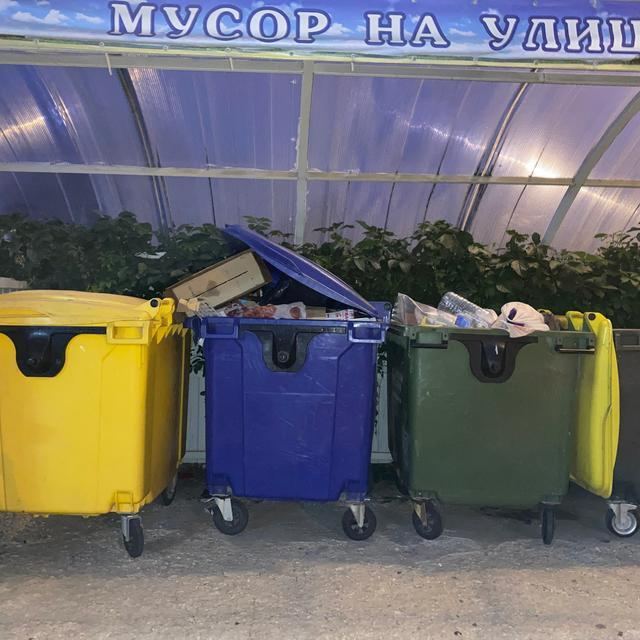Trash_Can_Closed: (2, 288, 188, 515)
Trash_Can_Empty: (612, 324, 640, 503)
Trash_Can_Full: (203, 221, 385, 501), (388, 291, 594, 505)
